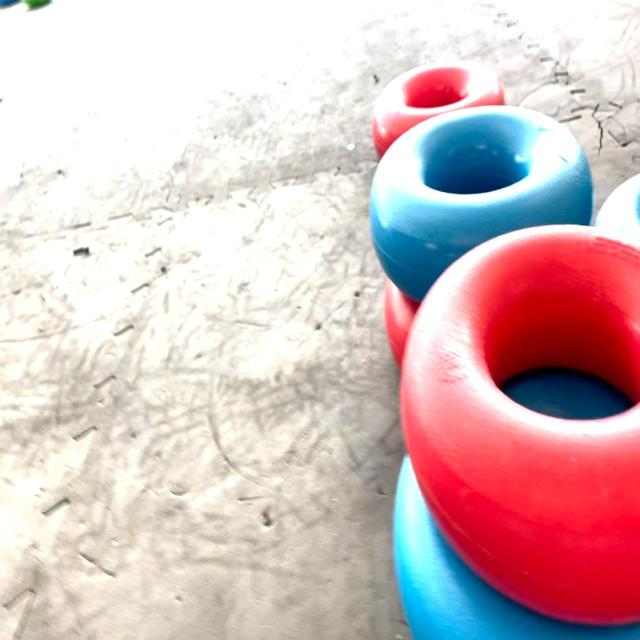Blue-Ring: (394, 456, 640, 640), (370, 107, 594, 301)
Red-Ring: (400, 227, 640, 624), (372, 62, 504, 158)
